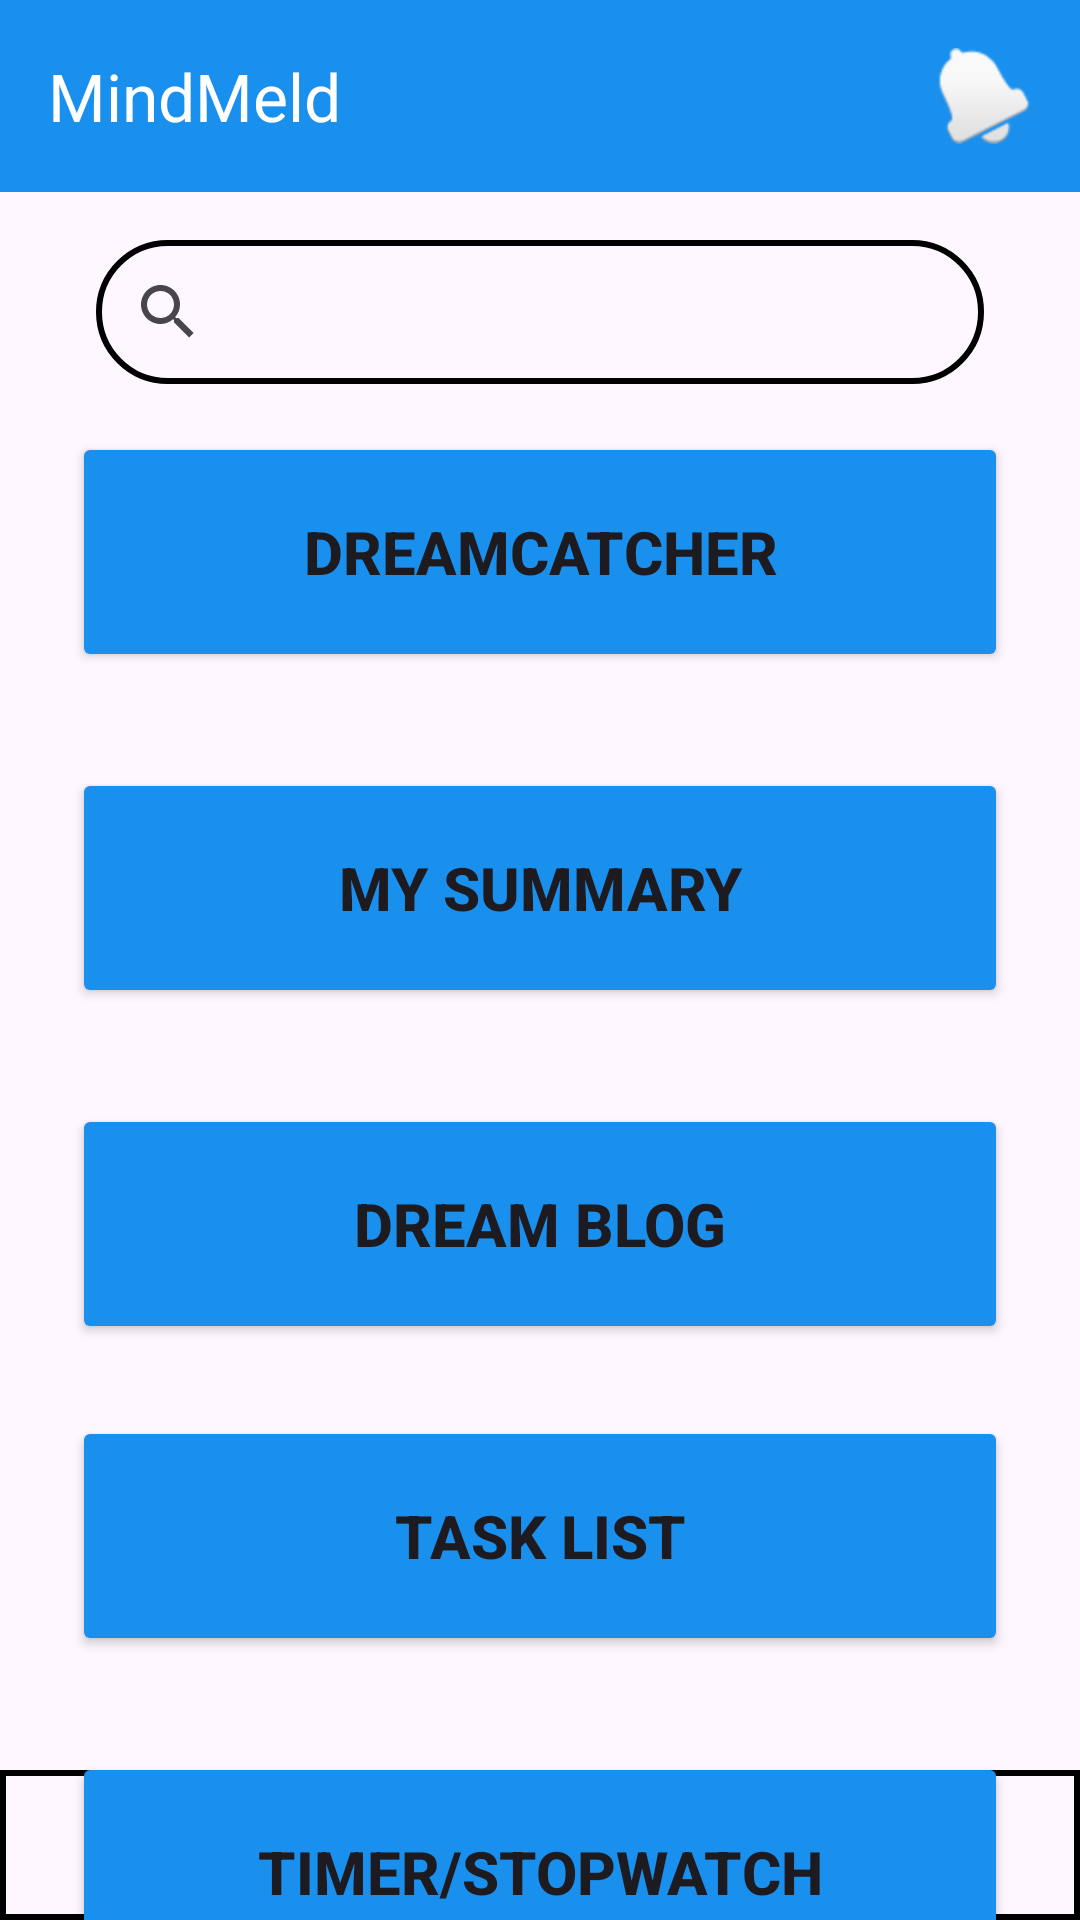

Icons on this 1080×1920 Android screen, each with the point to tap as (x,y):
popup reminder: (984,96)
